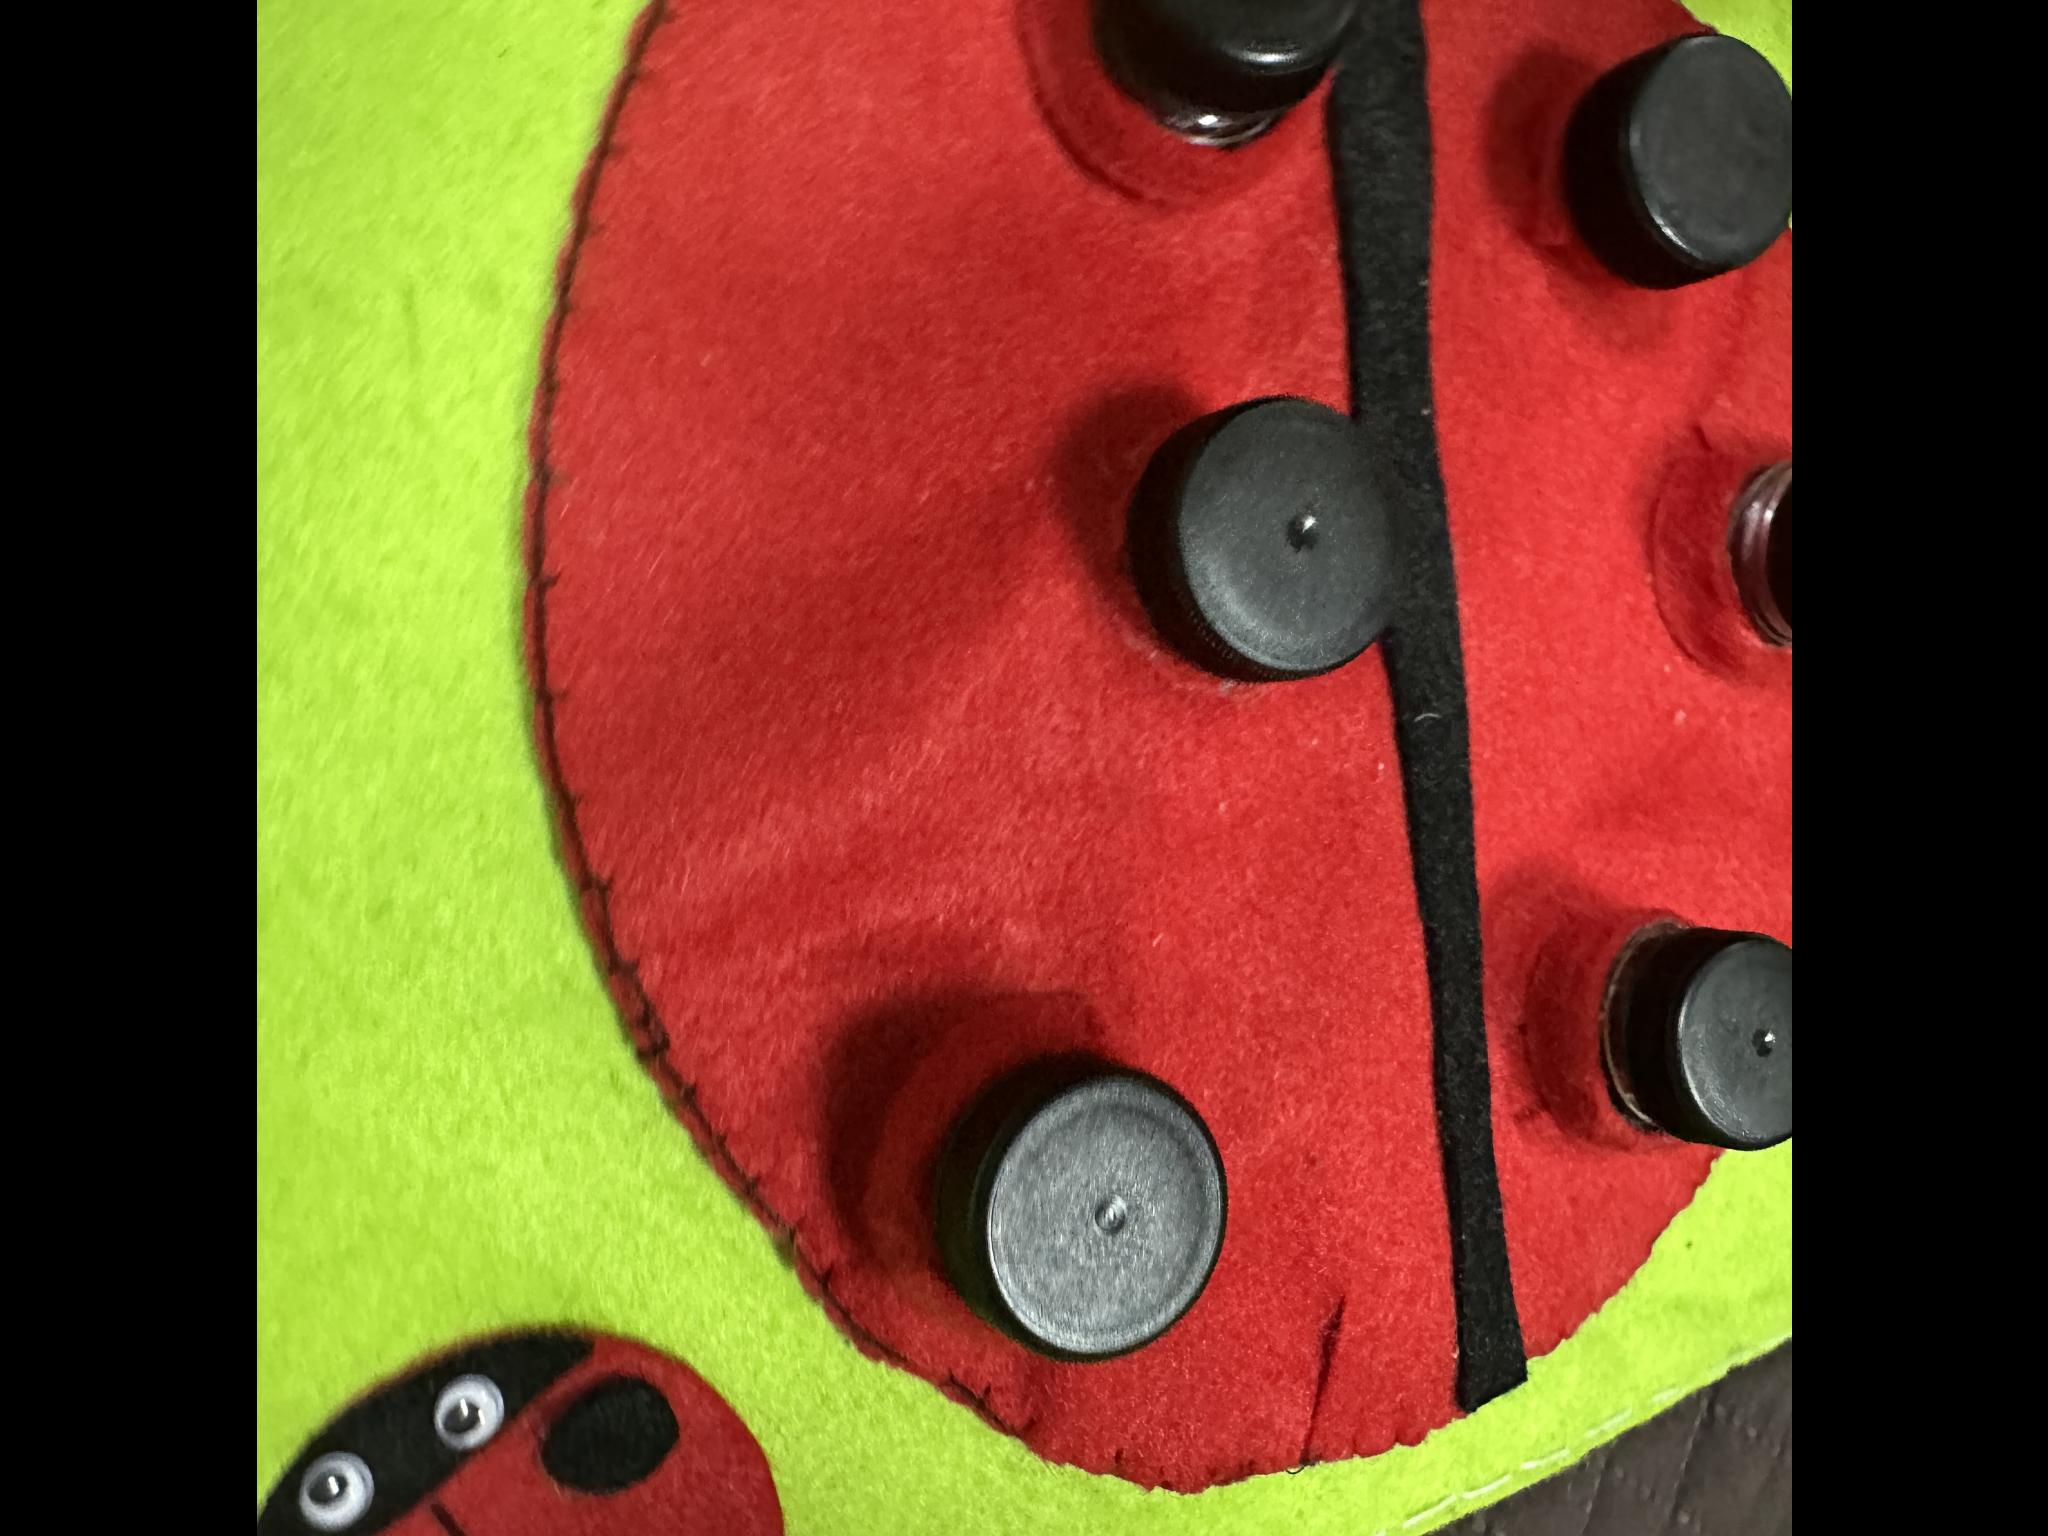cap_ng: (1509, 857, 1792, 1218), (1011, 0, 1400, 184), (1646, 416, 1792, 682)
cap_ok: (882, 979, 1232, 1397), (1098, 379, 1408, 687), (1488, 0, 1792, 294)
